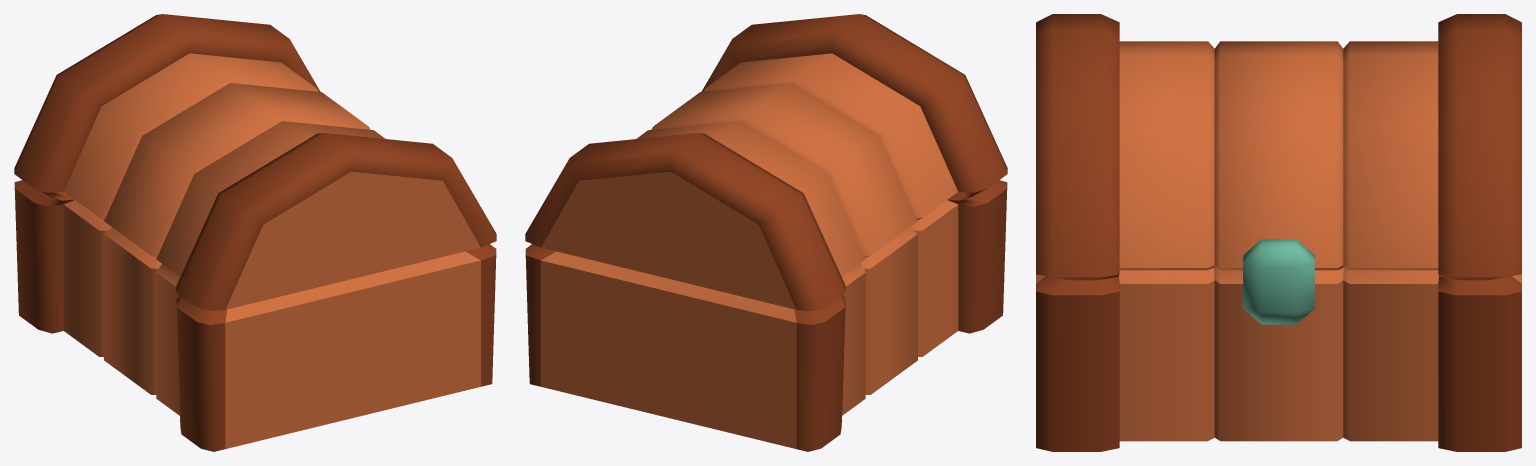
The model's file is chest.glb.
The picture shows the model from 3 angles, left to right: view 1: azimuth 30°, elevation 25°; view 2: azimuth 150°, elevation 25°; view 3: azimuth 270°, elevation 25°; orthographic projection. The views are drawn at different scales.
Parts seen in each view (by area): view 1: chest; view 2: chest; view 3: chest.
Part boxes in pixels (bbox=[...]): chest: bbox=[14, 14, 496, 451]; chest: bbox=[525, 14, 1007, 451]; chest: bbox=[1036, 14, 1521, 451].
Bounding box in the file's own units: 0.9441 × 0.8003 × 1.06.
1 material, 1 textured.
